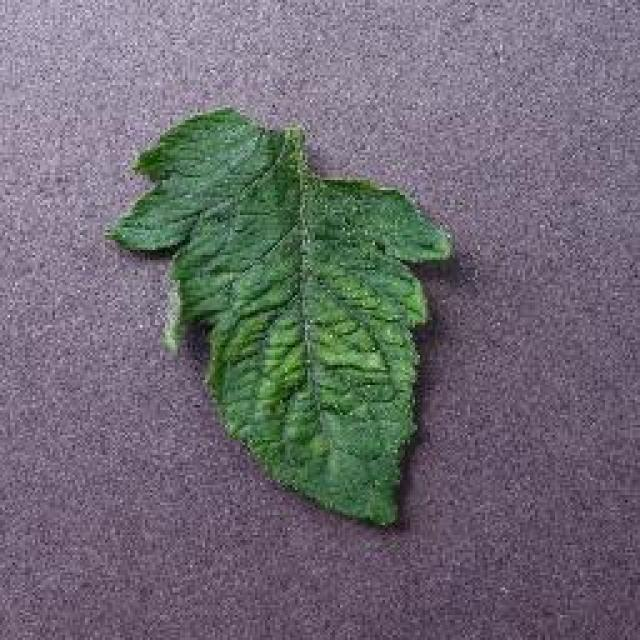Tomato___Tomato_mosaic_virus: (110, 110, 450, 522)
